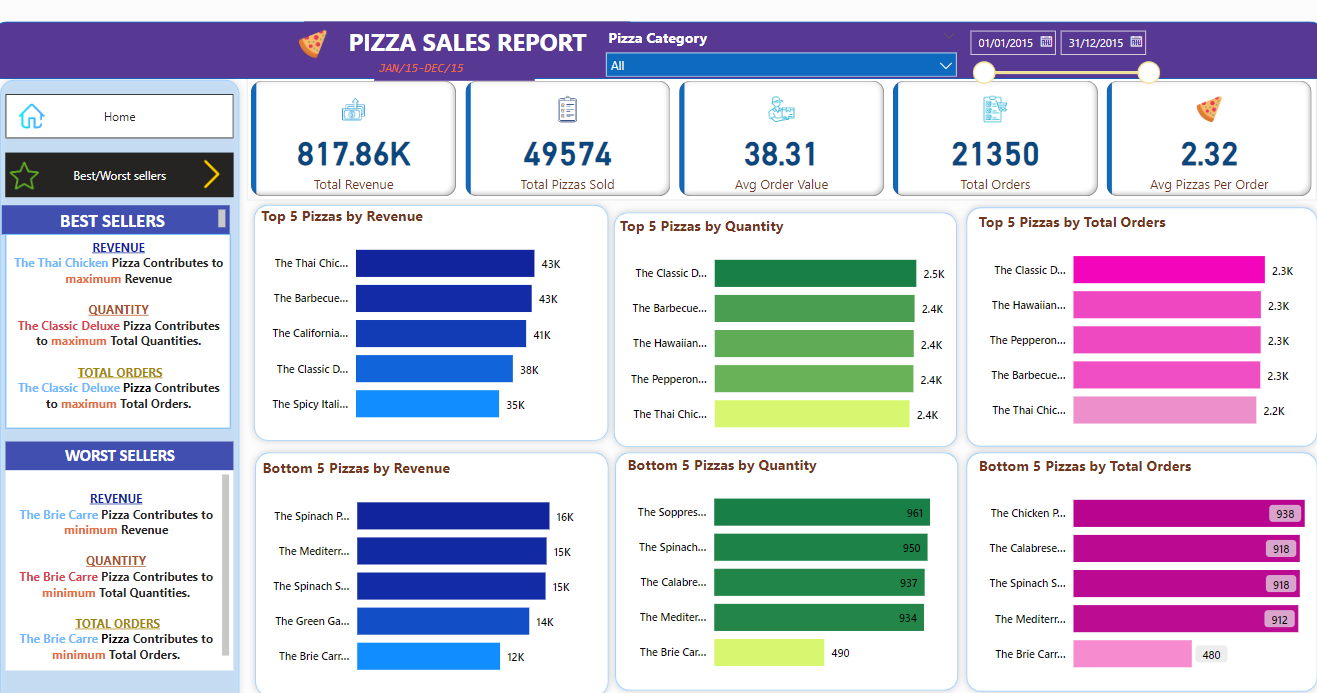

Layout of this report page (visuals, bound fields, positions):
{"tool":"powerbi","page":{"name":"Best/Worst sellers","canvas":[1500,820],"ordinal":1},"visuals":[{"type":"shape","box":[0,100,285.7,719.5],"z":0},{"type":"textbox","box":[10.4,249.4,257.1,32.5],"z":1000},{"type":"cardVisual","fields":{"Data":["pizza_sales.Total Revenue","pizza_sales.Total Pizzas Sold","pizza_sales.Avg Order Value","pizza_sales.Total Orders","pizza_sales.Avg Pizzas Per Order"]},"box":[285.7,103.9,1205.2,140.3],"z":2000},{"type":"shape","box":[0,42.9,1500,64.9],"z":3000},{"type":"textbox","box":[350.6,42.9,367.5,61],"z":4000},{"type":"textbox","box":[429,80,180.5,28.6],"z":5000},{"type":"image","box":[331.2,46.8,58.4,42.9],"z":6000},{"type":"shape","box":[285.7,240.3,415.6,281.8],"z":7000},{"type":"textbox","box":[14.3,281.8,253.2,219.5],"z":8000},{"type":"textbox","box":[14.3,515.6,257.1,32.5],"z":9000},{"type":"textbox","box":[14.3,548.1,257.1,226],"z":10000},{"type":"slicer","fields":{"Values":["pizza_sales.pizza_category"]},"box":[680.5,44.2,415.6,61],"z":11000},{"type":"slicer","fields":{"Values":["pizza_sales.order_date"]},"box":[1088.3,42.9,235.1,84.4],"z":12000},{"type":"shape","box":[1088.3,244.2,411.7,285.7],"z":13000},{"type":"shape","box":[287,519.5,414.3,290.9],"z":14000},{"type":"shape","box":[693.5,519.5,402.6,284.4],"z":15000},{"type":"shape","box":[1088.3,519.5,411.7,285.7],"z":16000},{"type":"barChart","title":"Top 5 Pizzas by Revenue","fields":{"Category":["pizza_sales.pizza_name"],"Y":["pizza_sales.Total Revenue"]},"box":[297.4,249.4,394.8,261],"z":17000},{"type":"barChart","title":"Bottom 5 Pizzas by Revenue","fields":{"Category":["pizza_sales.pizza_name"],"Y":["pizza_sales.Total Revenue"]},"box":[298.7,533.8,394.8,261],"z":18000},{"type":"shape","box":[692.2,249.4,402.6,280.5],"z":19000},{"type":"barChart","title":"Top 5 Pizzas by Total Orders","fields":{"Category":["pizza_sales.pizza_name"],"Y":["pizza_sales.Total Orders"]},"box":[1105.2,255.8,394.8,261],"z":20000},{"type":"barChart","title":"Top 5 Pizzas by Quantity","fields":{"Category":["pizza_sales.pizza_name"],"Y":["pizza_sales.Total Pizzas Sold"]},"box":[701.3,261,394.8,261],"z":21000},{"type":"barChart","title":"Bottom 5 Pizzas by Quantity","fields":{"Category":["pizza_sales.pizza_name"],"Y":["pizza_sales.Total Pizzas Sold"]},"box":[710.4,529.9,361,261],"z":22000},{"type":"barChart","title":"Bottom 5 Pizzas by Total Orders","fields":{"Category":["pizza_sales.pizza_name"],"Y":["pizza_sales.Total Orders"]},"box":[1105.2,531.2,394.8,261],"z":23000},{"type":"pageNavigator","box":[14.3,189.6,257.1,50.6],"z":24000},{"type":"pageNavigator","box":[14.3,123.4,257.1,50.6],"z":25000},{"type":"image","box":[224.7,193.5,42.9,42.9],"z":25001},{"type":"image","box":[14.3,129.9,58.4,39],"z":25002},{"type":"image","box":[14.3,190.9,42.9,49.4],"z":25003}]}

Visuals, with their boxes on the page's 1500x820 design canvas (x1, y1, x2, y2). These are canvas units, not pixel positions in the 1317x693 screenshot, which may show the page scaled, cropped or inside an application window:
shape: pyautogui.locateOnScreen(0, 100, 286, 820)
textbox: pyautogui.locateOnScreen(10, 249, 268, 282)
cardVisual - pizza_sales.Total Revenue x pizza_sales.Total Pizzas Sold: pyautogui.locateOnScreen(286, 104, 1491, 244)
shape: pyautogui.locateOnScreen(0, 43, 1500, 108)
textbox: pyautogui.locateOnScreen(351, 43, 718, 104)
textbox: pyautogui.locateOnScreen(429, 80, 610, 109)
image: pyautogui.locateOnScreen(331, 47, 390, 90)
shape: pyautogui.locateOnScreen(286, 240, 701, 522)
textbox: pyautogui.locateOnScreen(14, 282, 268, 501)
textbox: pyautogui.locateOnScreen(14, 516, 271, 548)
textbox: pyautogui.locateOnScreen(14, 548, 271, 774)
slicer - pizza_sales.pizza_category: pyautogui.locateOnScreen(680, 44, 1096, 105)
slicer - pizza_sales.order_date: pyautogui.locateOnScreen(1088, 43, 1323, 127)
shape: pyautogui.locateOnScreen(1088, 244, 1500, 530)
shape: pyautogui.locateOnScreen(287, 520, 701, 810)
shape: pyautogui.locateOnScreen(694, 520, 1096, 804)
shape: pyautogui.locateOnScreen(1088, 520, 1500, 805)
"Top 5 Pizzas by Revenue" barChart: pyautogui.locateOnScreen(297, 249, 692, 510)
"Bottom 5 Pizzas by Revenue" barChart: pyautogui.locateOnScreen(299, 534, 694, 795)
shape: pyautogui.locateOnScreen(692, 249, 1095, 530)
"Top 5 Pizzas by Total Orders" barChart: pyautogui.locateOnScreen(1105, 256, 1500, 517)
"Top 5 Pizzas by Quantity" barChart: pyautogui.locateOnScreen(701, 261, 1096, 522)
"Bottom 5 Pizzas by Quantity" barChart: pyautogui.locateOnScreen(710, 530, 1071, 791)
"Bottom 5 Pizzas by Total Orders" barChart: pyautogui.locateOnScreen(1105, 531, 1500, 792)
pageNavigator: pyautogui.locateOnScreen(14, 190, 271, 240)
pageNavigator: pyautogui.locateOnScreen(14, 123, 271, 174)
image: pyautogui.locateOnScreen(225, 194, 268, 236)
image: pyautogui.locateOnScreen(14, 130, 73, 169)
image: pyautogui.locateOnScreen(14, 191, 57, 240)
